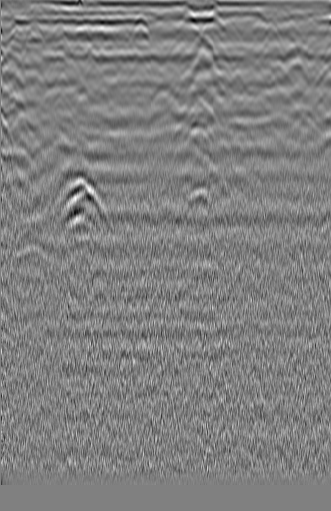상수: (279, 59, 311, 84)
오수: (1, 30, 27, 61)
우수: (124, 12, 156, 53)
